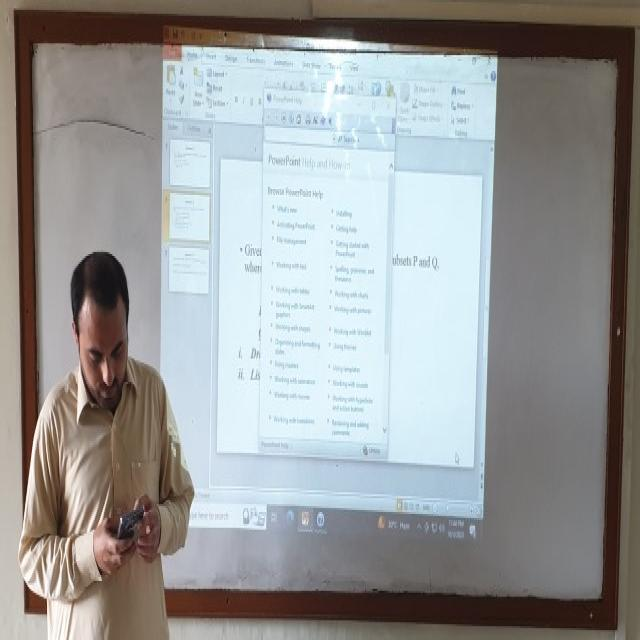Instructor: (44, 251, 158, 634)
Slide: (158, 25, 501, 553)
White-board: (23, 21, 627, 613)
